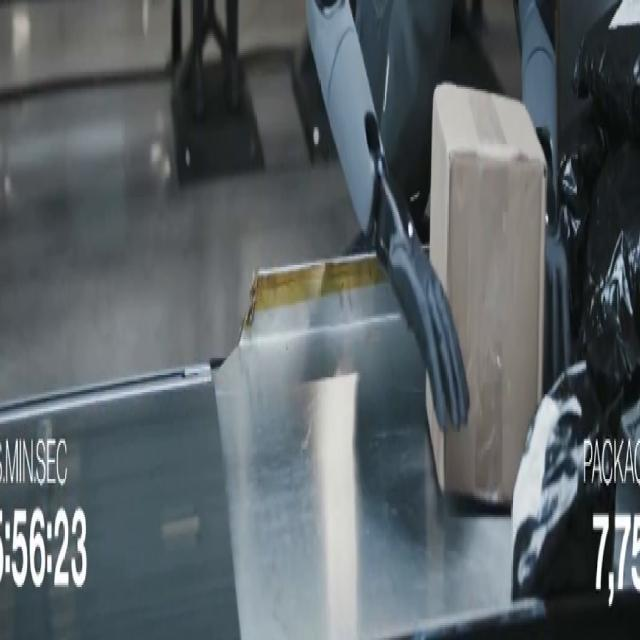package: (427, 85, 546, 504), (512, 363, 619, 599), (582, 142, 639, 396), (558, 104, 607, 336), (574, 0, 639, 139)
